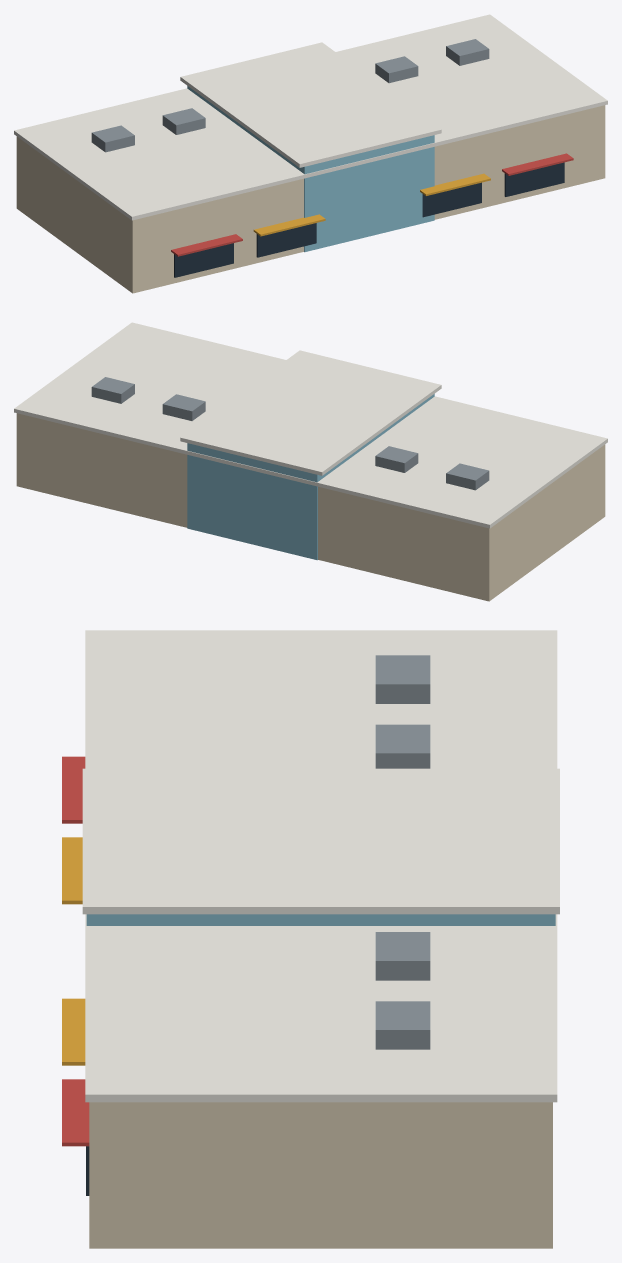
Rendered from mall.glb.
3 renders of one model, top to bottom at view 1: azimuth 30°, elevation 25°; view 2: azimuth 150°, elevation 25°; view 3: azimuth 270°, elevation 25°, orthographic. The views are drawn at different scales.
Visible parts, largest first — view 1: Cube.001; view 2: Cube.001; view 3: Cube.001.
Part boxes in pixels (bbox=[...]): Cube.001: bbox=[14, 14, 607, 293]; Cube.001: bbox=[14, 322, 607, 601]; Cube.001: bbox=[62, 630, 559, 1248].
Size of the model in its own units: 80.6 by 14.6 by 36.5.
